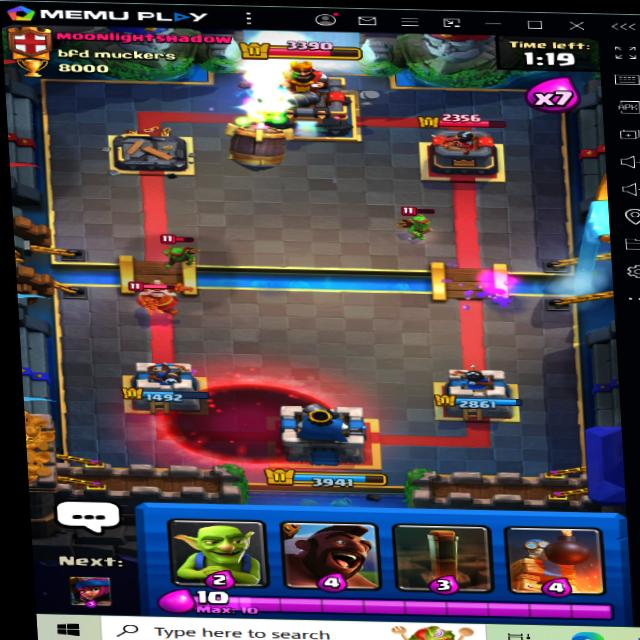monk: (119, 277, 186, 316)
rocket: (211, 118, 299, 176)
spear-goblin: (392, 202, 431, 237), (157, 235, 201, 266)
void: (160, 382, 342, 464)
